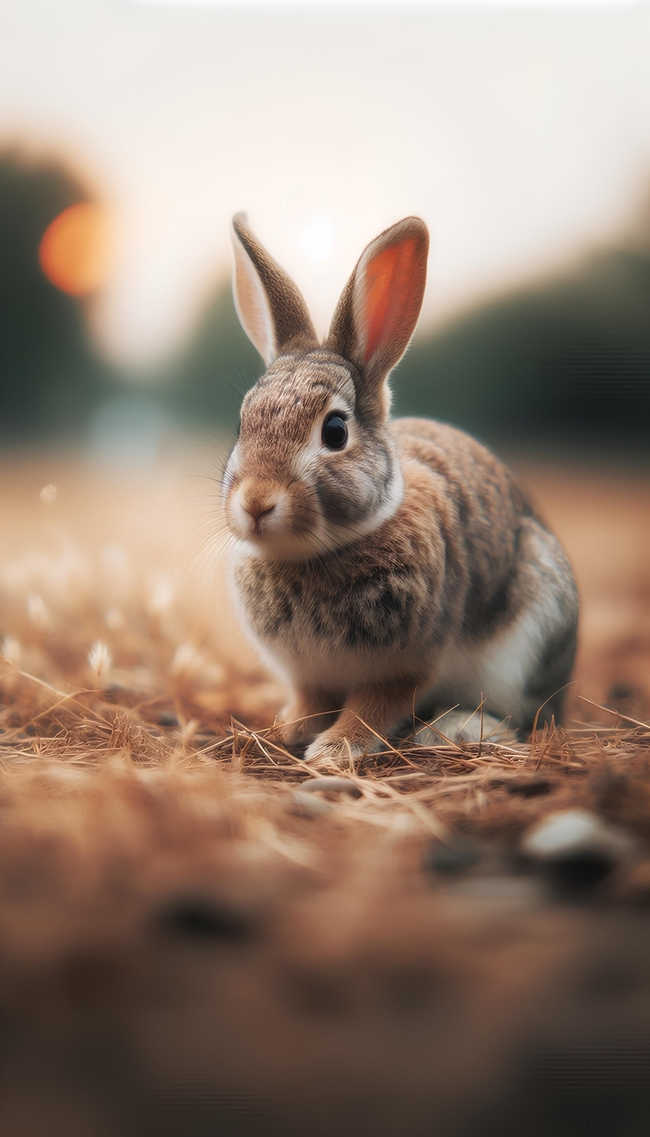rabbit: (210, 196, 587, 763)
